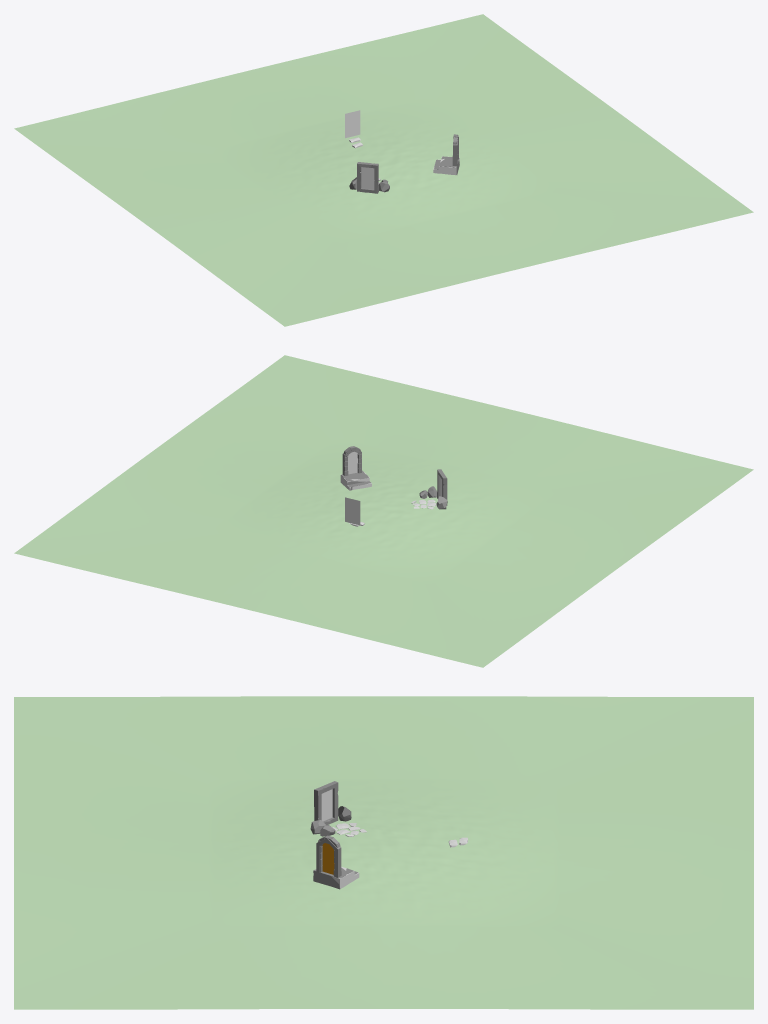
Rendered from Portals.fbx.
3 views of the same model, one above another, from view 1: azimuth 30°, elevation 25°; view 2: azimuth 150°, elevation 25°; view 3: azimuth 270°, elevation 25° (orthographic). The views are drawn at different scales.
Visible parts, largest first — view 1: Plane; view 2: Plane; view 3: Plane, Portal frame 2.
Boxes of the visible parts, x1,y1,x2,y2 form: Plane: [14, 14, 753, 326]; Plane: [14, 355, 753, 667]; Plane: [14, 696, 753, 1009]; Portal frame 2: [314, 781, 338, 824].
Size of the model in its own units: 12207 by 919 by 12207.
